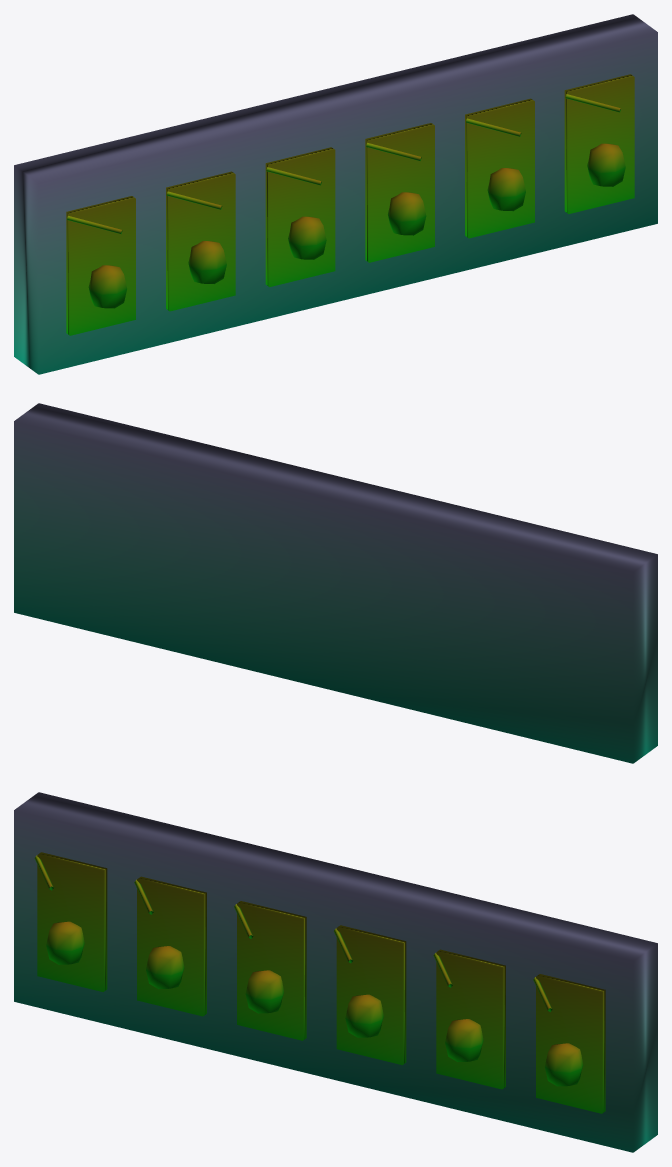
The model's file is lamp_niche_tier.glb.
3 views of the same model, one above another, from view 1: azimuth 30°, elevation 25°; view 2: azimuth 150°, elevation 25°; view 3: azimuth 330°, elevation 25° (orthographic).
Visible parts, largest first — view 1: lamp_niche_tier; view 2: lamp_niche_tier; view 3: lamp_niche_tier.
Boxes of the visible parts, box(x1,y1,x2,y2) form: lamp_niche_tier: box(14, 14, 657, 374); lamp_niche_tier: box(14, 403, 657, 763); lamp_niche_tier: box(14, 792, 657, 1152).
Size of what is drawn, in the model's own units: 3.97 by 1.17 by 0.5375.
